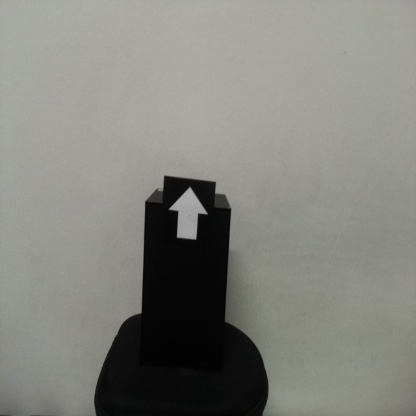id_1: (164, 179, 214, 250)
